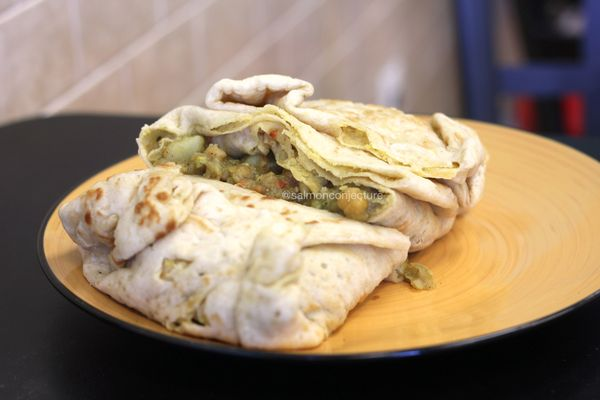soup: (128, 84, 488, 253)
